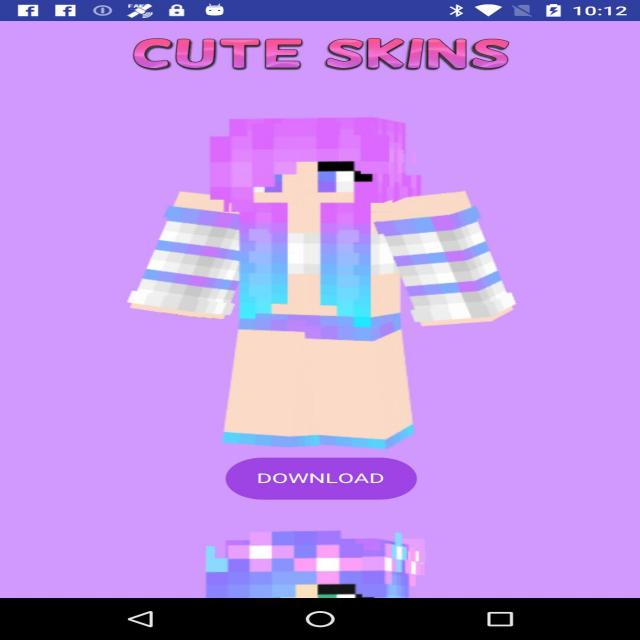button: (221, 457, 420, 500)
image: (111, 100, 534, 457), (110, 29, 526, 85), (185, 525, 457, 598)
text: (250, 467, 389, 488)
